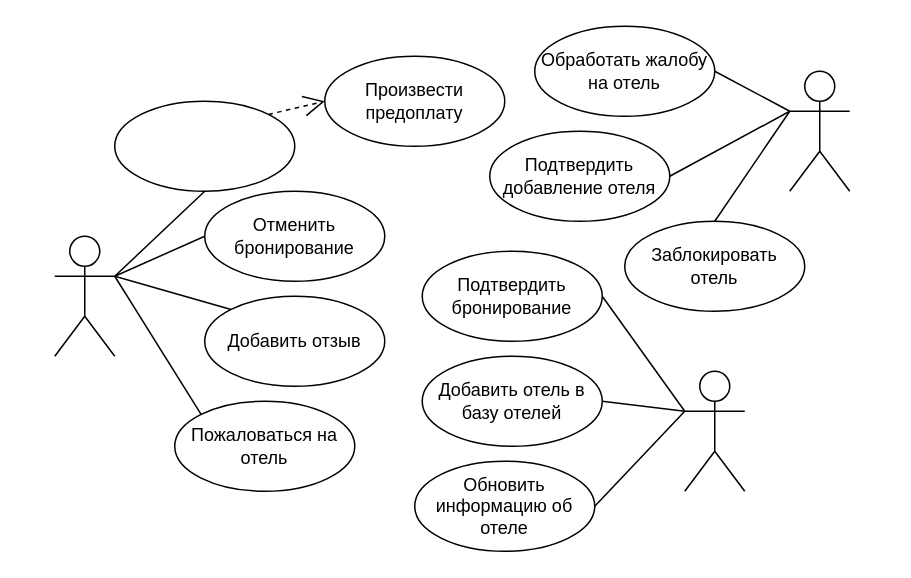
Image size: 911x578. Some labels were removed from this diagram. Each missing label, with the centre of its shape:
"Администратор сайта" belongs at pixel 819 130.
"Забронировать комнату" belongs at pixel 204 145.
"Менеджер отеля" belongs at pixel 714 430.
"Пользователь" belongs at pixel 84 295.
